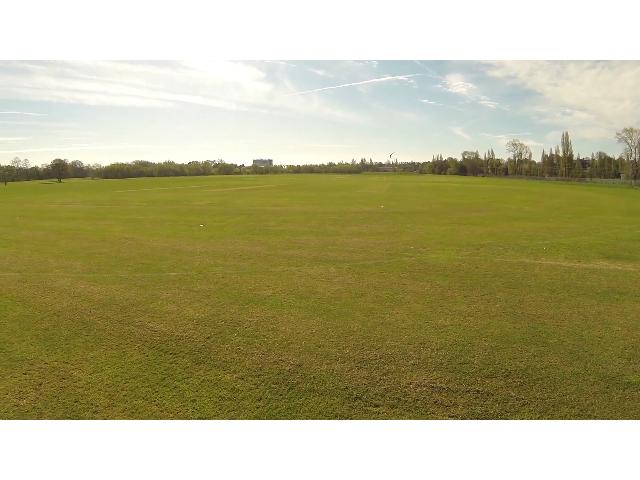Anti-Drone: (387, 147, 399, 159)
